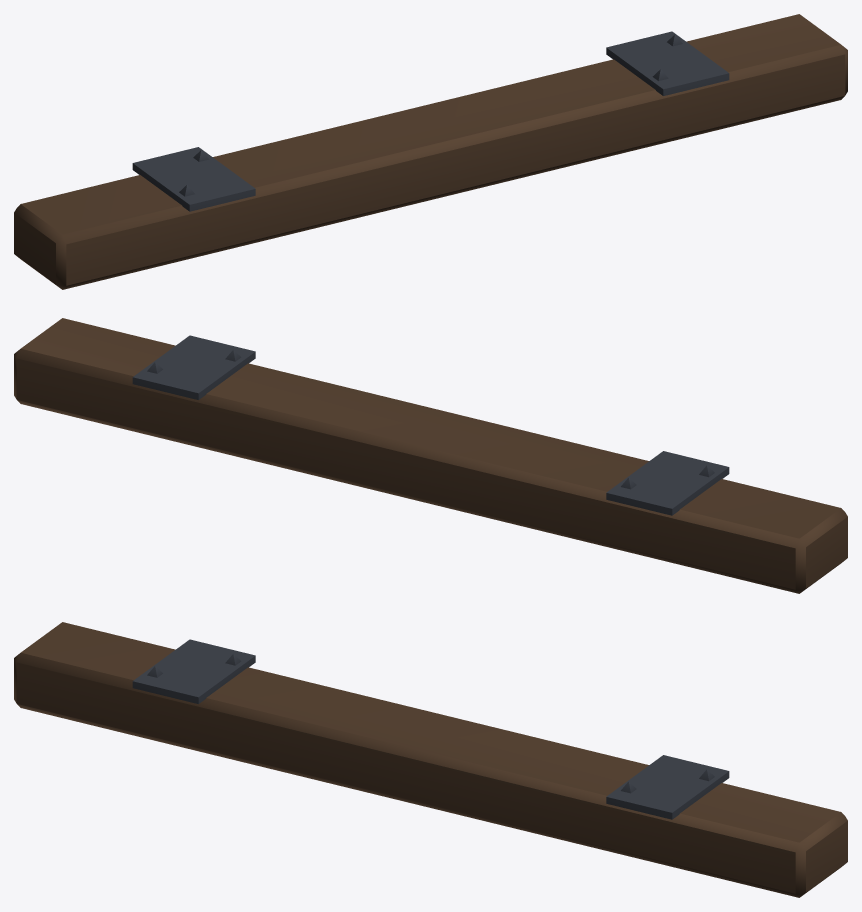
Rendered from sleeper.glb.
3 renders of one model, top to bottom at view 1: azimuth 30°, elevation 25°; view 2: azimuth 150°, elevation 25°; view 3: azimuth 330°, elevation 25°, orthographic.
Visible parts, largest first — view 1: sleeper Sleeper wood, sleeper Iron; view 2: sleeper Sleeper wood, sleeper Iron; view 3: sleeper Sleeper wood, sleeper Iron.
Boxes of the visible parts, x1,y1,x2,y2 form: sleeper Sleeper wood: (14,14,847,289); sleeper Iron: (132,31,729,211); sleeper Sleeper wood: (14,318,847,593); sleeper Iron: (132,335,729,515); sleeper Sleeper wood: (14,622,847,897); sleeper Iron: (132,639,729,819).
Size of the model in its own units: 2.4 by 0.203 by 0.3.
